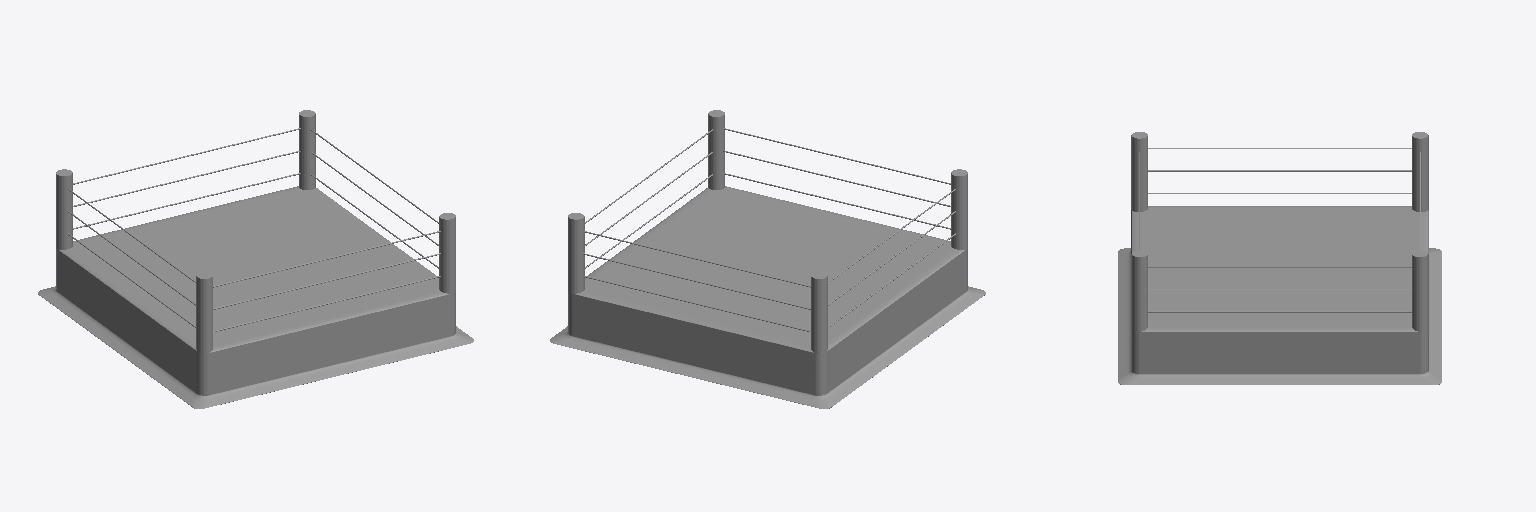
File: fightingRing.obj
3 views of the same model, side by side, from view 1: azimuth 30°, elevation 25°; view 2: azimuth 150°, elevation 25°; view 3: azimuth 270°, elevation 25° (orthographic).
Parts seen in each view (by area): view 1: FightingRing_Cube, RingPole.1_Cylinder, RingPole.4_Cylinder.001, RingPole.3_Cylinder.003, RingPole.2_Cylinder.002; view 2: FightingRing_Cube, RingPole.3_Cylinder.003, RingPole.2_Cylinder.002, RingPole.1_Cylinder, RingPole.4_Cylinder.001; view 3: FightingRing_Cube, RingPole.2_Cylinder.002, RingPole.4_Cylinder.001, RingPole.3_Cylinder.003, RingPole.1_Cylinder, String.8_Cylinder.015, String.3_Cylinder.013.
Part boxes in pixels (x1,y1,x2,y2): FightingRing_Cube: (38, 186, 473, 408); RingPole.1_Cylinder: (196, 272, 212, 353); RingPole.4_Cylinder.001: (439, 213, 455, 293); RingPole.3_Cylinder.003: (56, 169, 72, 249); RingPole.2_Cylinder.002: (299, 110, 315, 189); FightingRing_Cube: (550, 186, 985, 408); RingPole.3_Cylinder.003: (811, 272, 827, 353); RingPole.2_Cylinder.002: (568, 213, 584, 293); RingPole.1_Cylinder: (951, 169, 967, 249); RingPole.4_Cylinder.001: (708, 110, 724, 189); FightingRing_Cube: (1118, 206, 1441, 384); RingPole.2_Cylinder.002: (1412, 250, 1428, 331); RingPole.4_Cylinder.001: (1131, 250, 1147, 331); RingPole.3_Cylinder.003: (1412, 132, 1428, 211); RingPole.1_Cylinder: (1131, 132, 1147, 211); String.8_Cylinder.015: (1148, 170, 1411, 171); String.3_Cylinder.013: (1148, 311, 1411, 312).
Size of the model in its own units: 19.66 by 8.22 by 19.66.